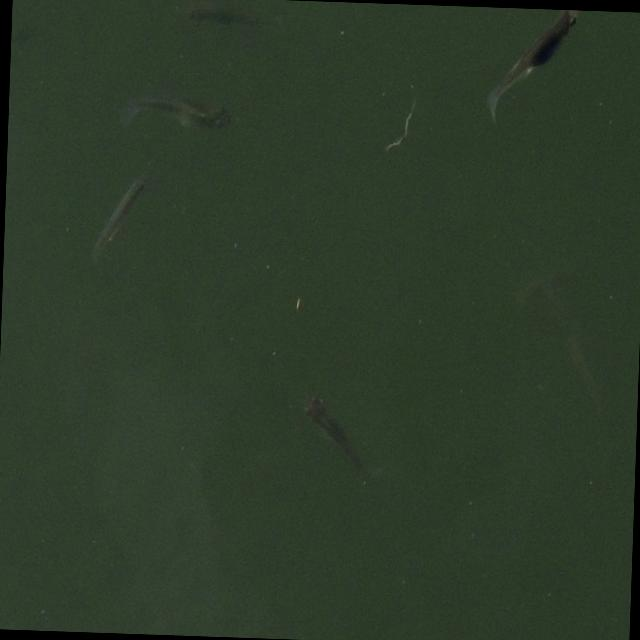Sivrisinek Baligi: (483, 6, 580, 130), (296, 384, 375, 481), (120, 76, 234, 136), (90, 168, 146, 260)
